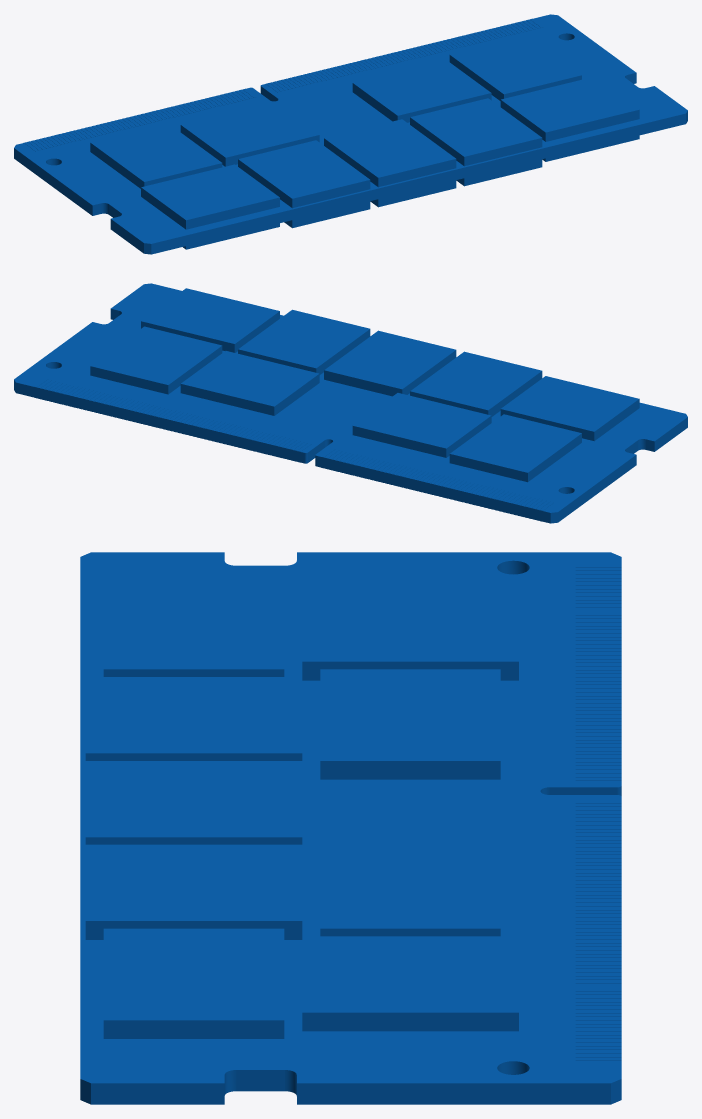
File: ram_2.dae
3 views of the same model, one above another, from view 1: azimuth 30°, elevation 25°; view 2: azimuth 150°, elevation 25°; view 3: azimuth 270°, elevation 25° (orthographic). The views are drawn at different scales.
Visible parts, largest first — view 1: ram_2; view 2: ram_2; view 3: ram_2.
Part boxes in pixels (x1,y1,x2,y2): ram_2: (14, 14, 687, 254); ram_2: (14, 283, 687, 523); ram_2: (80, 552, 621, 1104).
Size of the model in its own units: 0.696 by 0.036 by 0.3.
